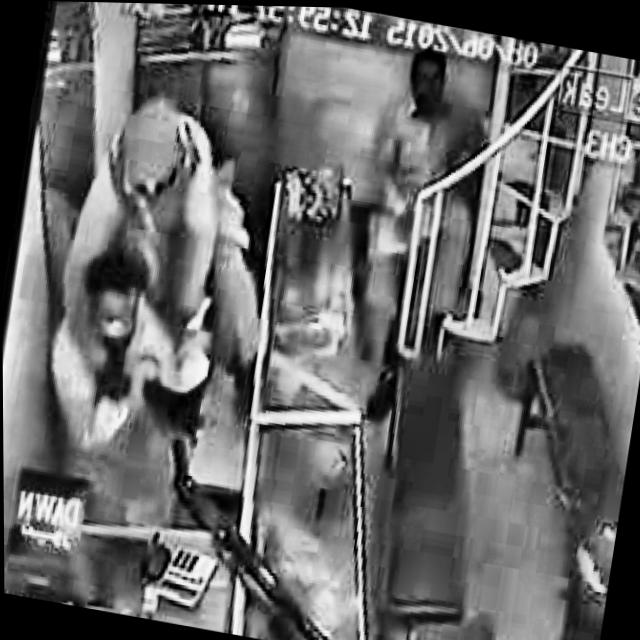robbery: (24, 71, 296, 485), (133, 425, 369, 640)
